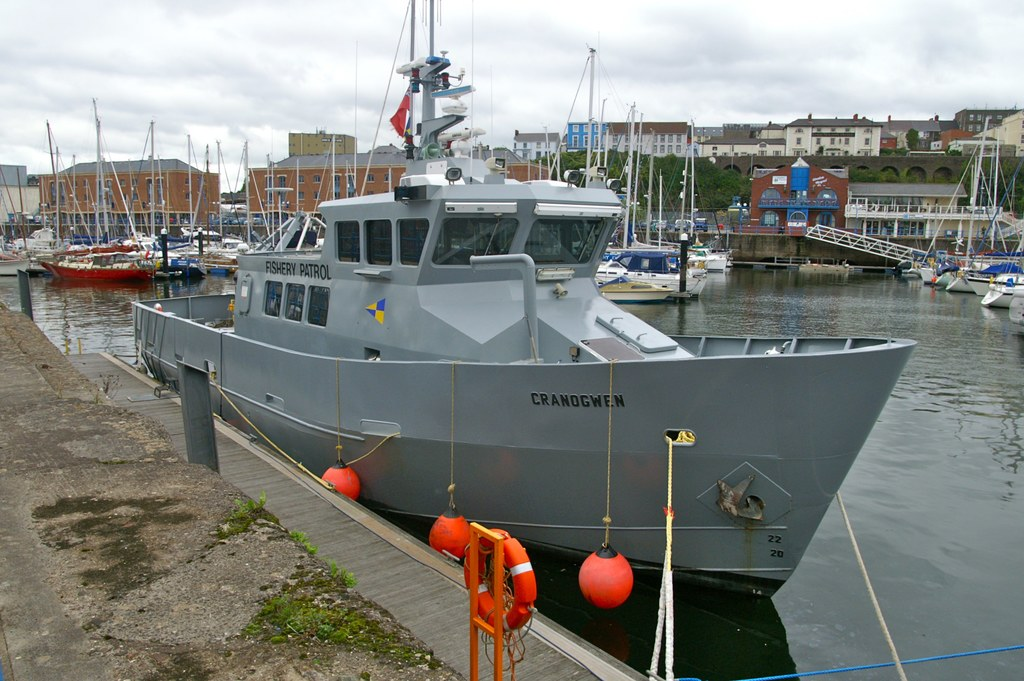boat: (122, 171, 931, 656), (577, 243, 712, 306), (32, 237, 172, 292)
